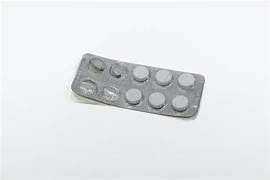pill_Strip: (71, 53, 204, 116), (155, 69, 172, 86), (148, 92, 165, 108), (172, 95, 189, 111), (125, 88, 142, 104), (109, 63, 127, 78), (132, 66, 148, 81), (178, 73, 195, 87), (90, 58, 105, 71)
